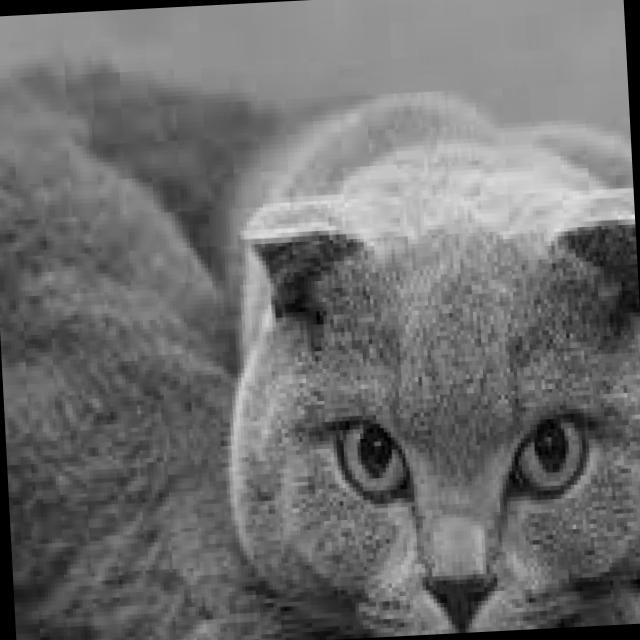scootish: (220, 157, 640, 640)
